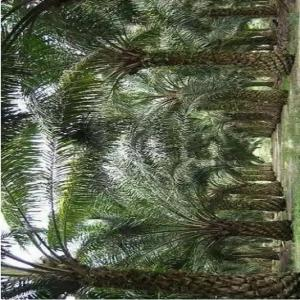palm tree: (2, 0, 298, 298)
